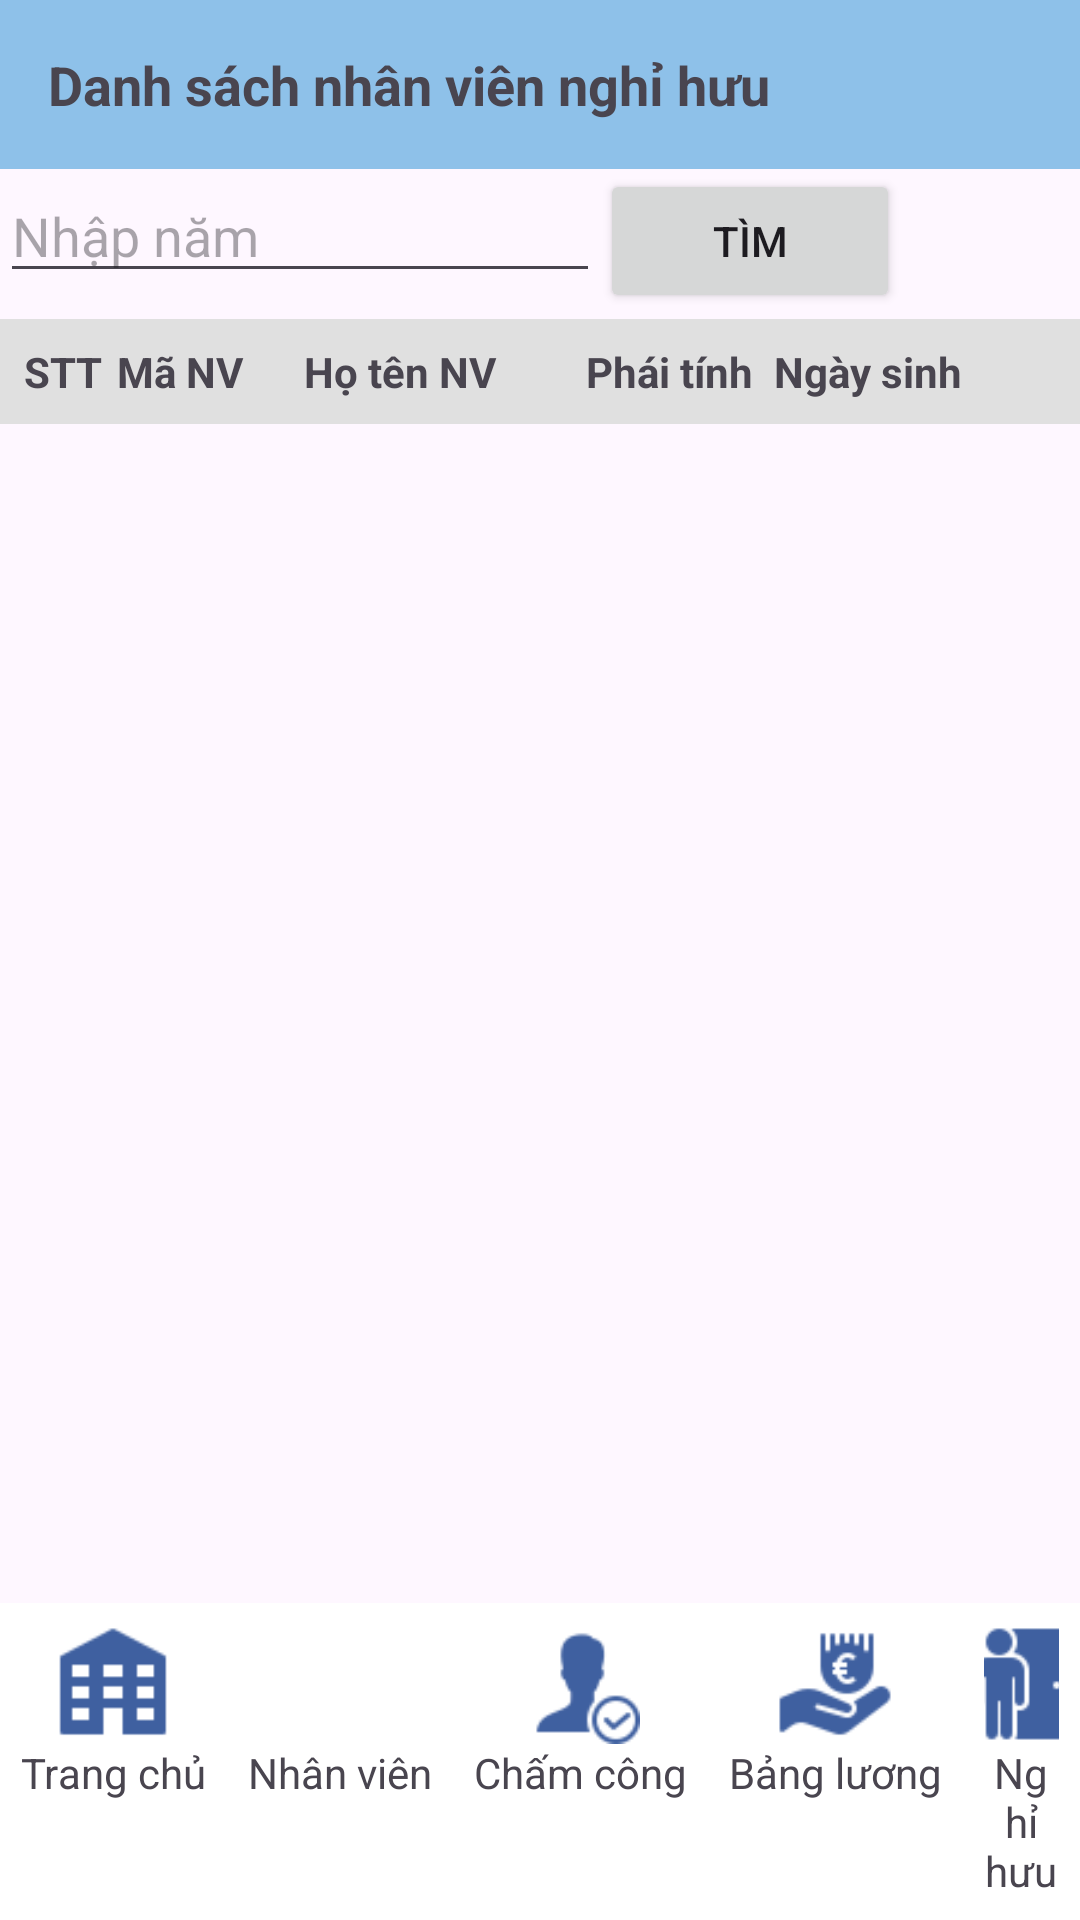

Where to tap for icons on this 1080 × 1920 app screen, as [x,y]:
phongban: [113,1681]
